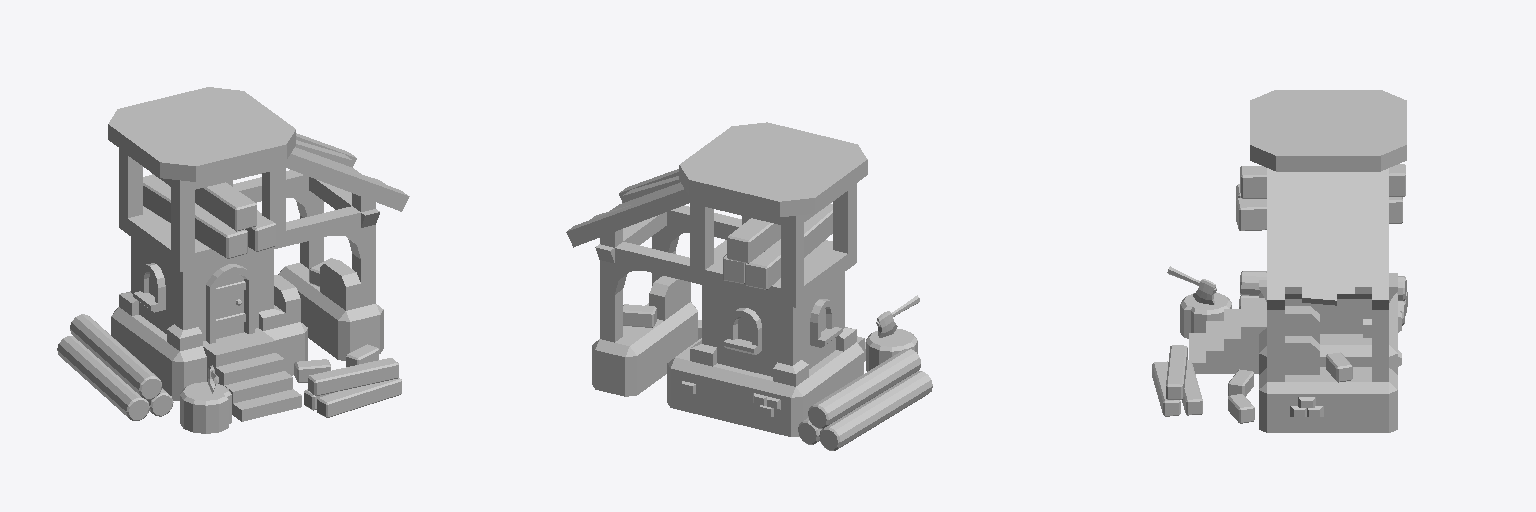
File: building_lumbermill_red.obj
3 views of the same model, side by side, from view 1: azimuth 30°, elevation 25°; view 2: azimuth 150°, elevation 25°; view 3: azimuth 270°, elevation 25° (orthographic).
Parts seen in each view (by area): view 1: building_lumbermill_red; view 2: building_lumbermill_red; view 3: building_lumbermill_red.
Boxes of the visible parts, <box> form: building_lumbermill_red: <box>57,87,409,433</box>; building_lumbermill_red: <box>566,122,932,450</box>; building_lumbermill_red: <box>1152,90,1407,432</box>.
Bounding box in the file's own units: 1.37 × 1.05 × 1.03.